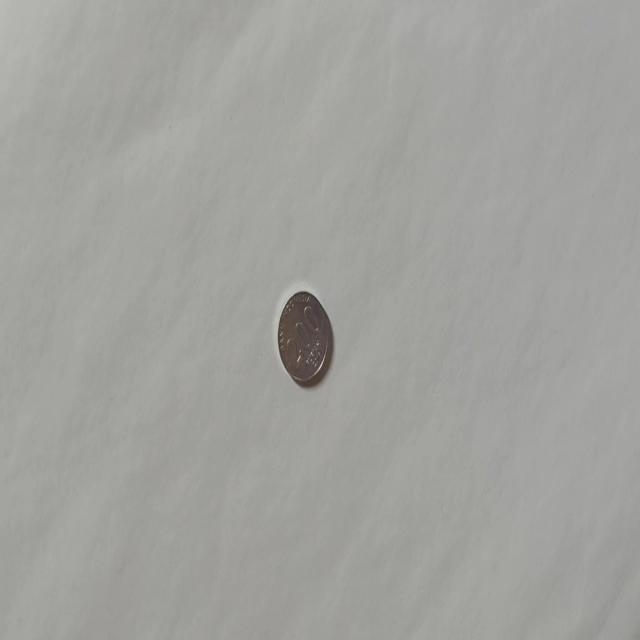dua ratus rupiah: (276, 289, 332, 386)
